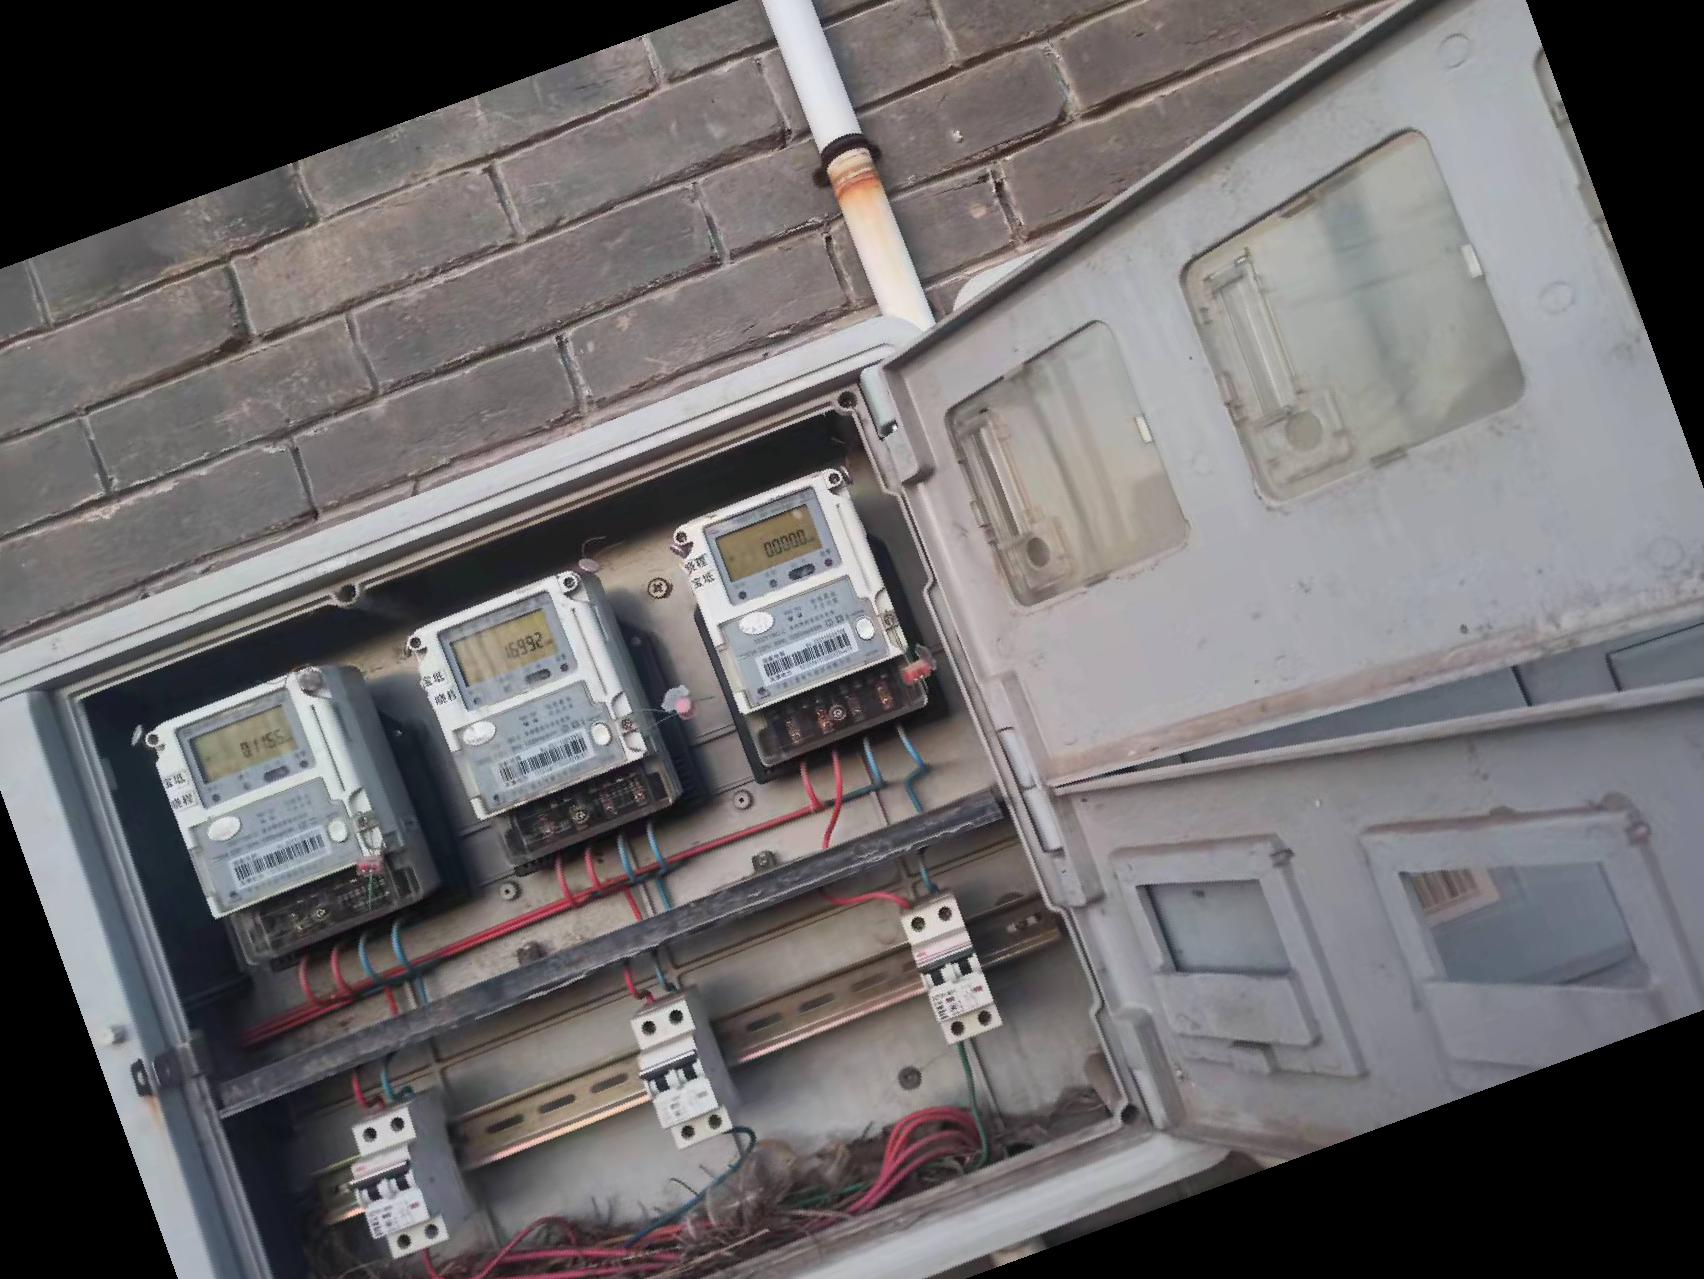digital: (142, 666, 384, 919), (414, 576, 645, 814), (681, 472, 901, 712)
